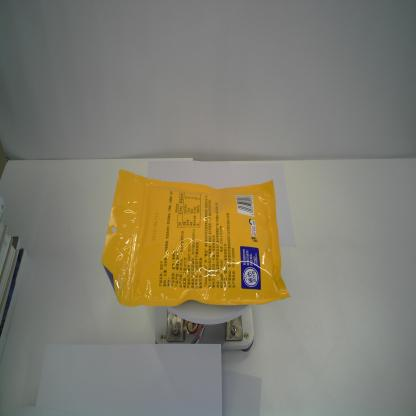Dried Fruit: (101, 168, 291, 309)
